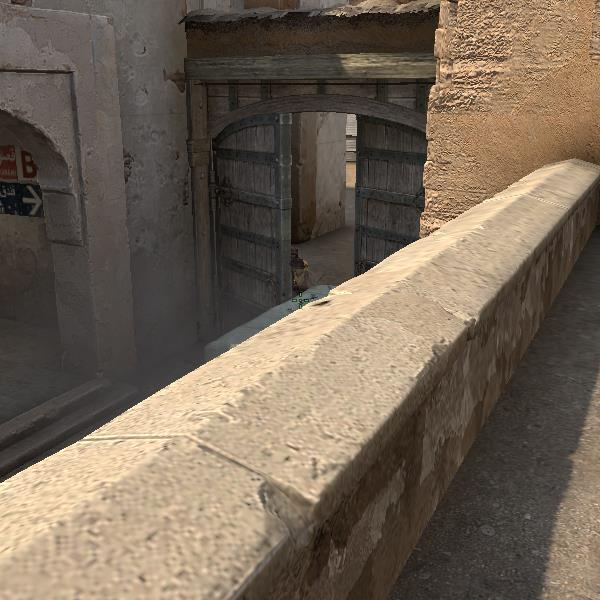t_body: (288, 255, 315, 293)
t_head: (289, 256, 309, 276)
